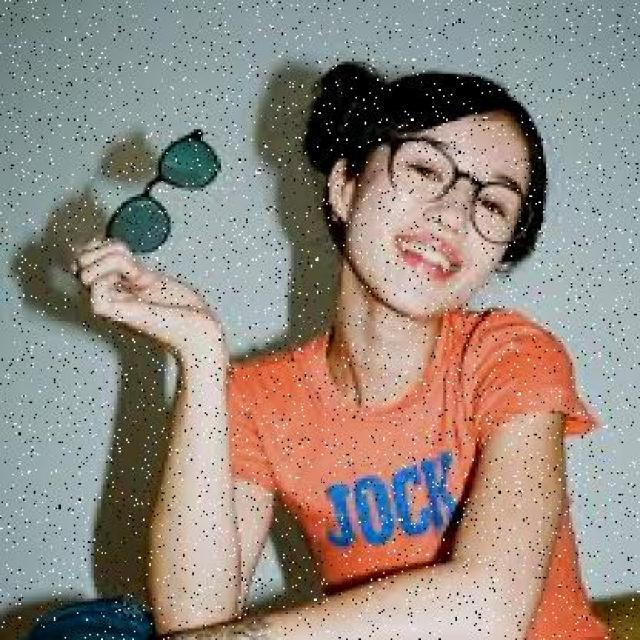1: (97, 120, 226, 262)
glasses: (370, 132, 535, 255)
